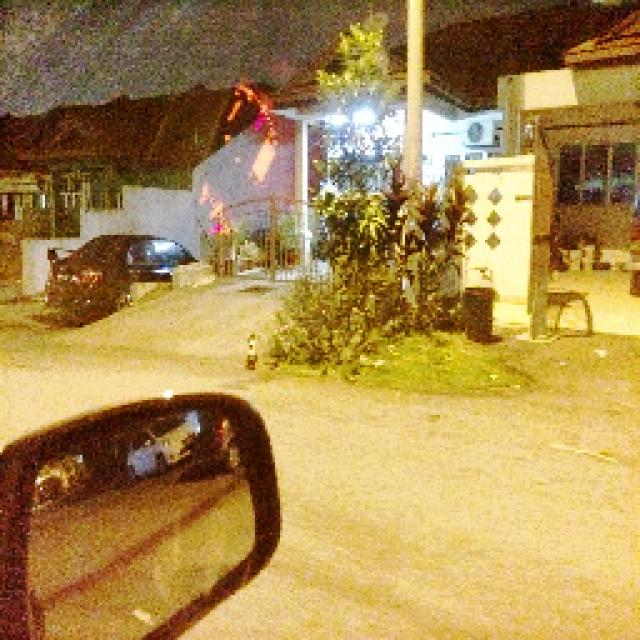cat: (246, 332, 259, 368)
